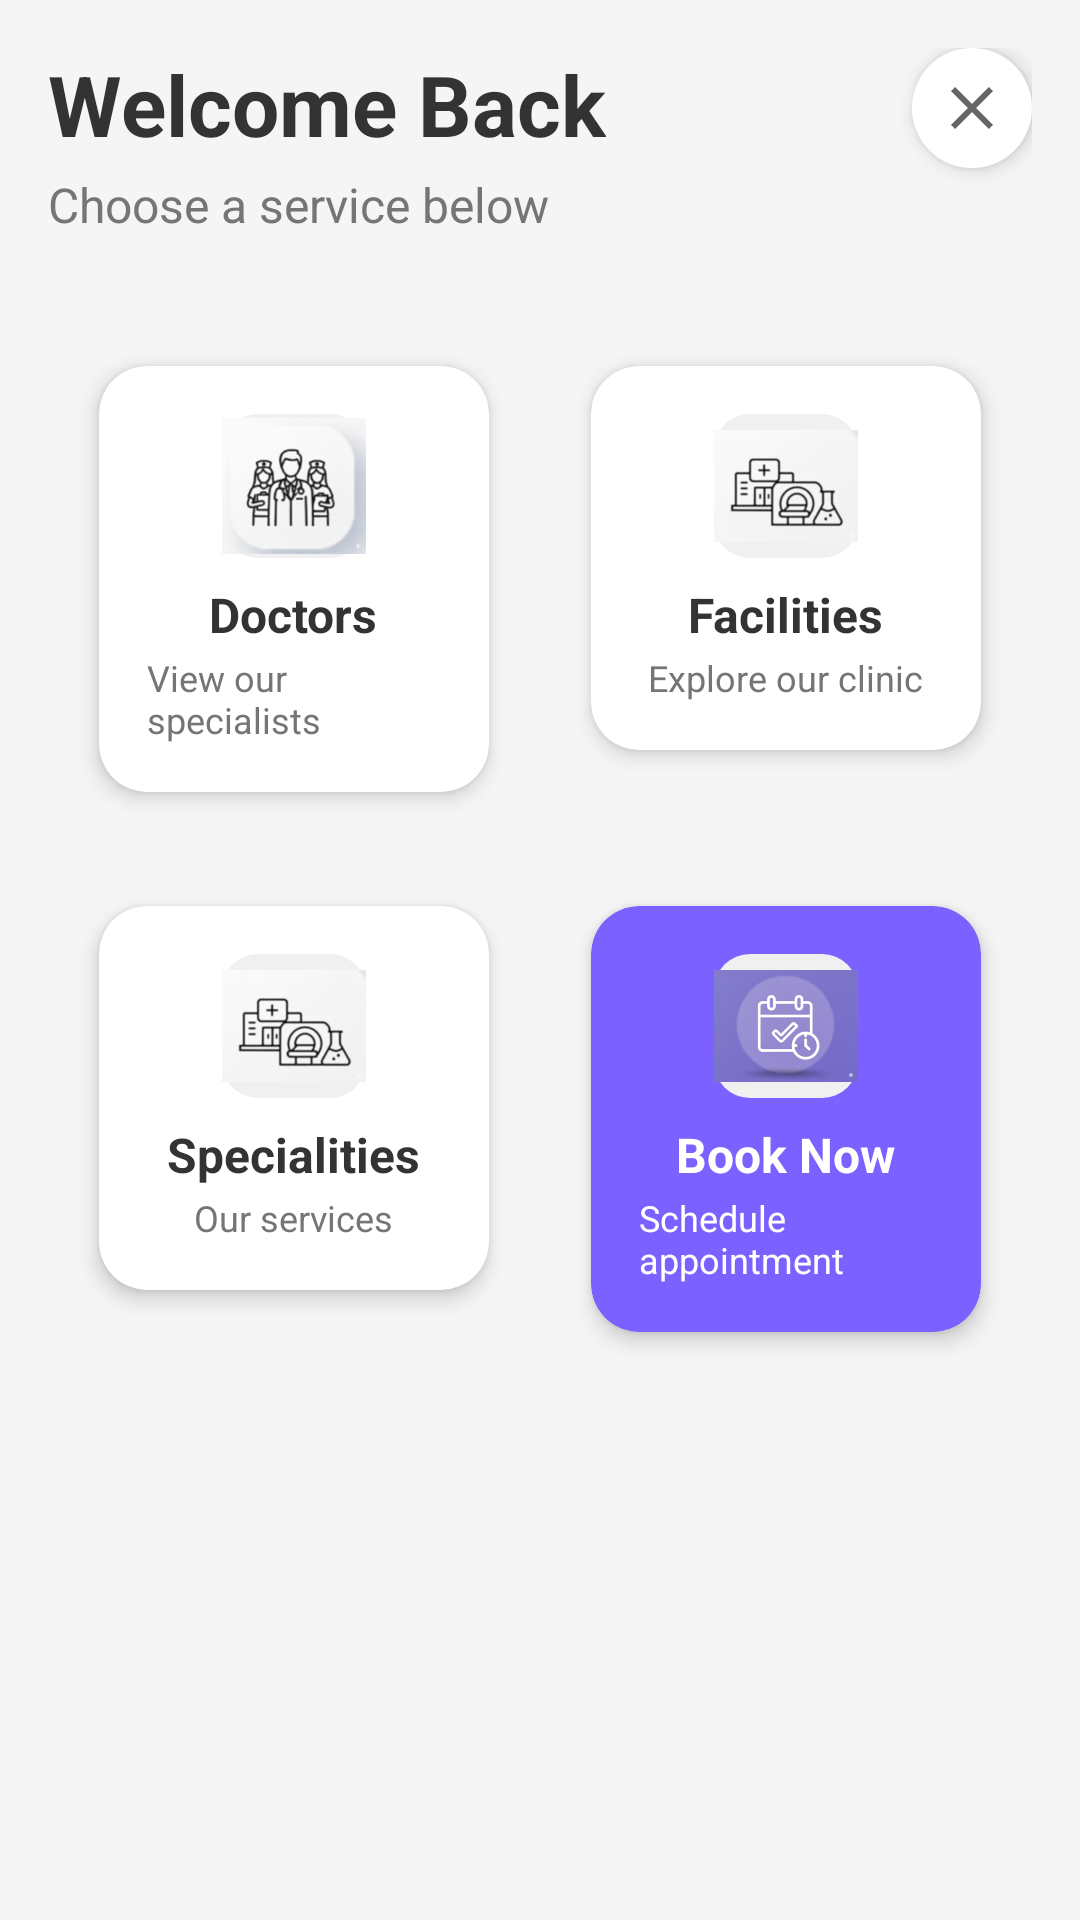

Icons on this 1080 × 1920 Android screen, each with its box as [x1, y1, x2, y2]:
Exit application icon: [912, 48, 1032, 168]
